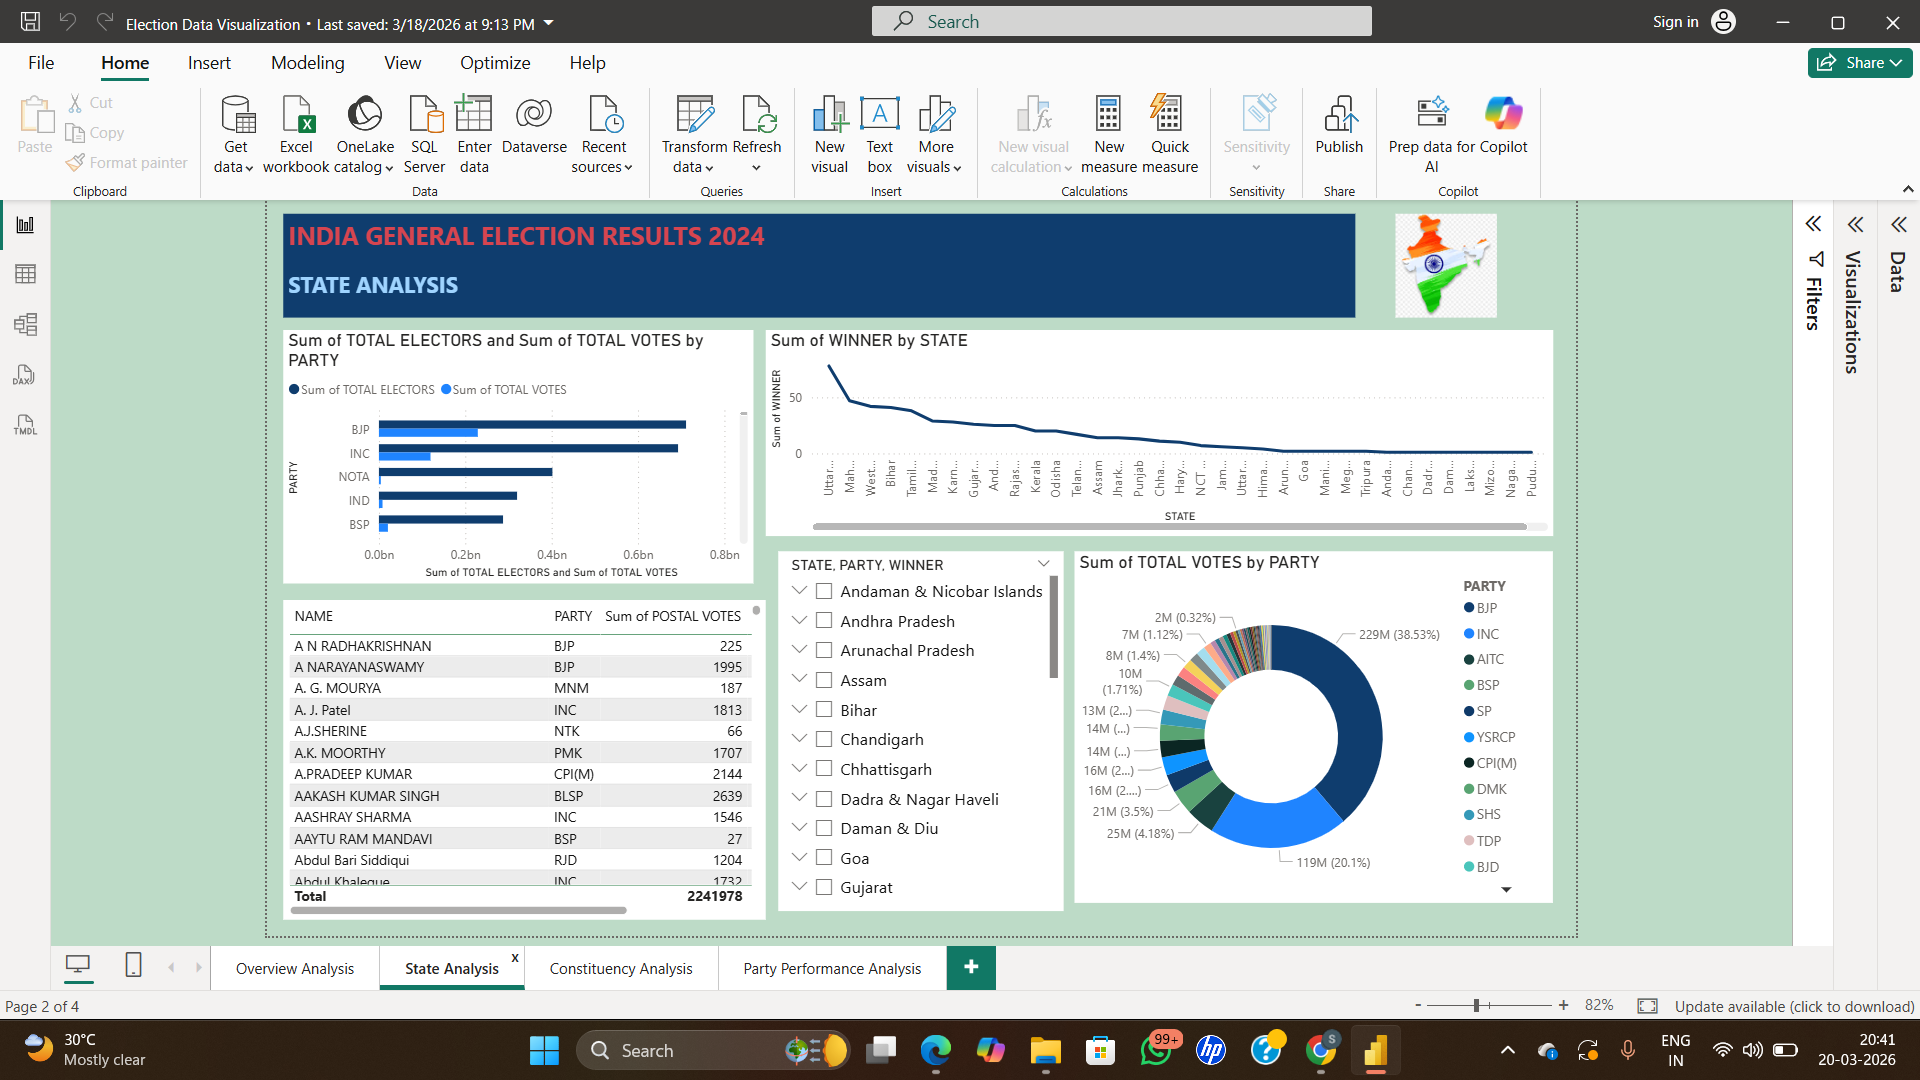

What the dashboard file says about the page in this screenshot:
{"tool":"powerbi","page":{"name":"State Analysis","canvas":[1280,720],"ordinal":1},"visuals":[{"type":"textbox","box":[15.9,13.5,1049.2,101.5],"z":0},{"type":"clusteredBarChart","fields":{"Y":["Sum(LS_2 0_final_cleaned.TOTAL ELECTORS)","Sum(LS_2 0_final_cleaned.TOTAL VOTES)"],"Category":["LS_2 0_final_cleaned.PARTY"]},"box":[15.9,127.2,459.8,248.2],"z":1000},{"type":"slicer","fields":{"Values":["LS_2 0_final_cleaned.STATE","LS_2 0_final_cleaned.PARTY","LS_2 0_final_cleaned.WINNER"]},"box":[500.1,343.6,278.8,352.2],"z":2000},{"type":"image","box":[1027.2,13.5,253.1,101.5],"z":3000},{"type":"donutChart","fields":{"Category":["LS_2 0_final_cleaned.PARTY"],"Y":["Sum(LS_2 0_final_cleaned.TOTAL VOTES)"]},"box":[789.9,343.6,468.3,343.6],"z":4000},{"type":"lineChart","fields":{"Category":["LS_2 0_final_cleaned.STATE"],"Y":["Sum(LS_2 0_final_cleaned.WINNER)"]},"box":[487.9,127.2,770.4,201.8],"z":5000},{"type":"tableEx","fields":{"Values":["LS_2 0_final_cleaned.NAME","LS_2 0_final_cleaned.PARTY","Sum(LS_2 0_final_cleaned.POSTAL VOTES)","LS_2 0_final_cleaned.CONSTITUENCY"]},"box":[15.9,391.3,472,313],"z":6000}]}

Visuals, with their boxes on the page's 1280x720 design canvas (x1, y1, x2, y2). These are canvas units, not pixel positions in the 1920x1080 screenshot, which may show the page scaled, cropped or inside an application window:
textbox: bbox=[16, 14, 1065, 115]
clusteredBarChart - Sum(LS_2 0_final_cleaned.TOTAL ELECTORS) x Sum(LS_2 0_final_cleaned.TOTAL VOTES): bbox=[16, 127, 476, 375]
slicer - LS_2 0_final_cleaned.STATE x LS_2 0_final_cleaned.PARTY: bbox=[500, 344, 779, 696]
image: bbox=[1027, 14, 1280, 115]
donutChart - LS_2 0_final_cleaned.PARTY x Sum(LS_2 0_final_cleaned.TOTAL VOTES): bbox=[790, 344, 1258, 687]
lineChart - LS_2 0_final_cleaned.STATE x Sum(LS_2 0_final_cleaned.WINNER): bbox=[488, 127, 1258, 329]
tableEx - LS_2 0_final_cleaned.NAME x LS_2 0_final_cleaned.PARTY: bbox=[16, 391, 488, 704]
